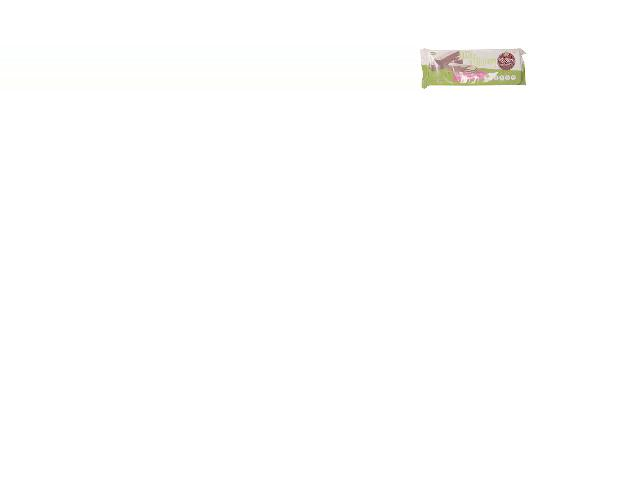chocolate: (420, 44, 529, 87)
